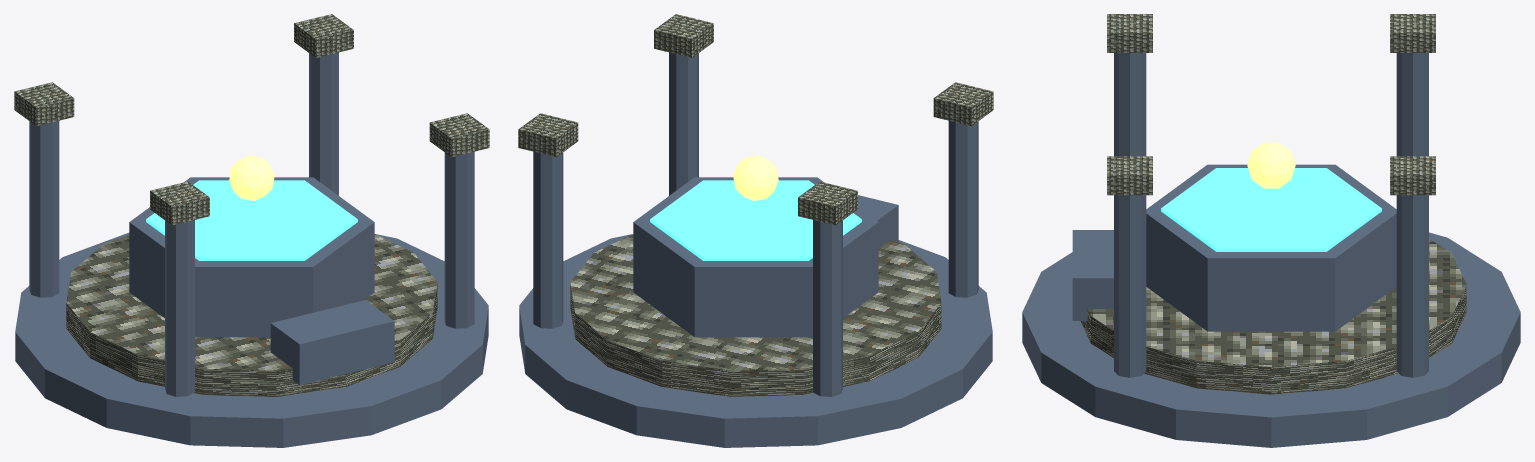
The model's file is altar.glb.
The picture shows the model from 3 angles, left to right: view 1: azimuth 30°, elevation 25°; view 2: azimuth 150°, elevation 25°; view 3: azimuth 270°, elevation 25°; orthographic projection. The views are drawn at different scales.
Parts seen in each view (by area): view 1: Cylinder, Cylinder.001, Cylinder.002, Cylinder.003, Cube.004, Cylinder.005, Cylinder.006, Cylinder.004, Cylinder.007, Cube.002, Cube.001, Cube (+2 smaller); view 2: Cylinder, Cylinder.001, Cylinder.002, Cylinder.003, Cylinder.007, Cylinder.004, Cylinder.006, Cylinder.005, Cube, Cube.003, Cube.002, Cube.001 (+2 smaller); view 3: Cylinder, Cylinder.002, Cylinder.001, Cylinder.003, Cylinder.005, Cylinder.007, Cube.004, Cylinder.004, Cylinder.006, Cube.001, Cube.003, Cube (+2 smaller).
Part boxes in pixels (x1,y1,x2,y2): Cylinder: (15, 232, 488, 447); Cylinder.001: (66, 234, 437, 396); Cylinder.002: (129, 177, 374, 337); Cylinder.003: (146, 180, 357, 260); Cube.004: (270, 300, 394, 385); Cylinder.005: (444, 151, 474, 328); Cylinder.006: (29, 121, 59, 297); Cylinder.004: (165, 220, 194, 396); Cylinder.007: (309, 52, 338, 195); Cube.002: (14, 82, 74, 126); Cube.001: (429, 113, 489, 157); Cube: (150, 181, 209, 225); Cylinder: (519, 234, 992, 447); Cylinder.001: (570, 234, 941, 396); Cylinder.002: (633, 177, 878, 337); Cylinder.003: (650, 180, 861, 260); Cylinder.007: (533, 151, 563, 328); Cylinder.004: (948, 121, 978, 297); Cylinder.006: (813, 220, 842, 396); Cylinder.005: (669, 52, 698, 195); Cube: (933, 82, 993, 126); Cube.003: (518, 113, 578, 157); Cube.002: (798, 181, 857, 225); Cube.001: (654, 14, 713, 57); Cylinder: (1022, 232, 1520, 447); Cylinder.002: (1146, 164, 1396, 331); Cylinder.001: (1080, 239, 1466, 394); Cylinder.003: (1161, 168, 1381, 251); Cylinder.005: (1114, 195, 1146, 377); Cylinder.007: (1396, 195, 1428, 377); Cube.004: (1072, 230, 1113, 320); Cylinder.004: (1114, 53, 1146, 156); Cylinder.006: (1396, 53, 1428, 156); Cube.001: (1107, 156, 1152, 195); Cube.003: (1390, 156, 1435, 195); Cube: (1107, 14, 1152, 52).
Size of the model in its own units: 3.7 by 2.03 by 3.7.
4 materials, 1 textured.
